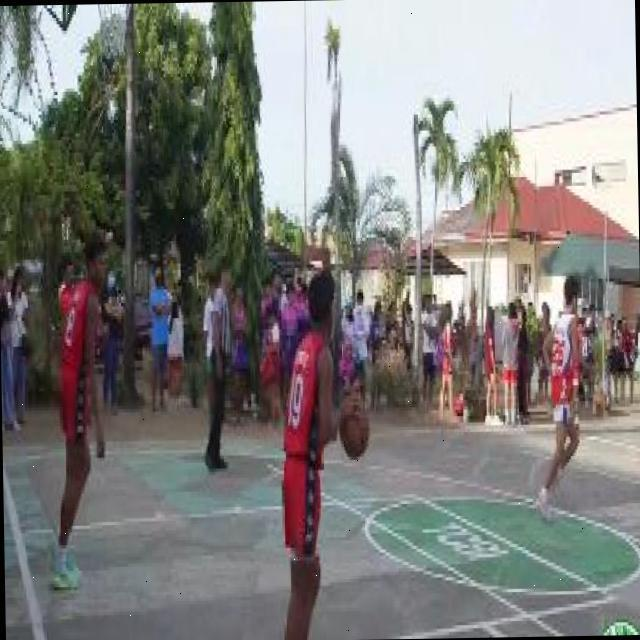ball: (338, 393, 372, 468)
